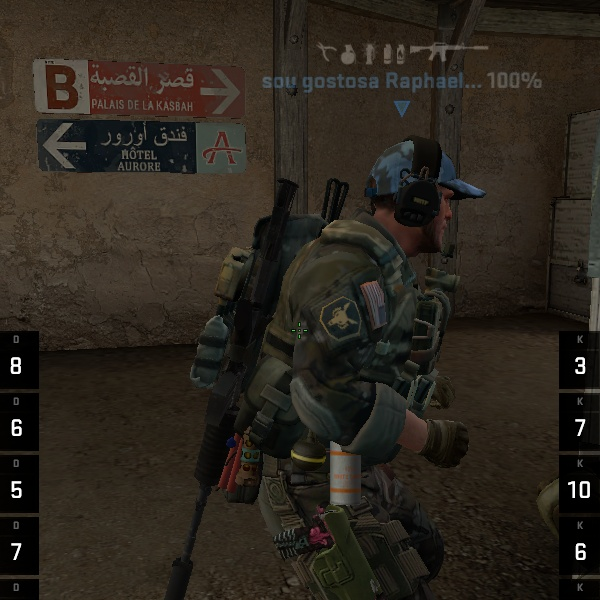ct_body: (168, 137, 508, 591)
ct_head: (349, 129, 470, 266)
